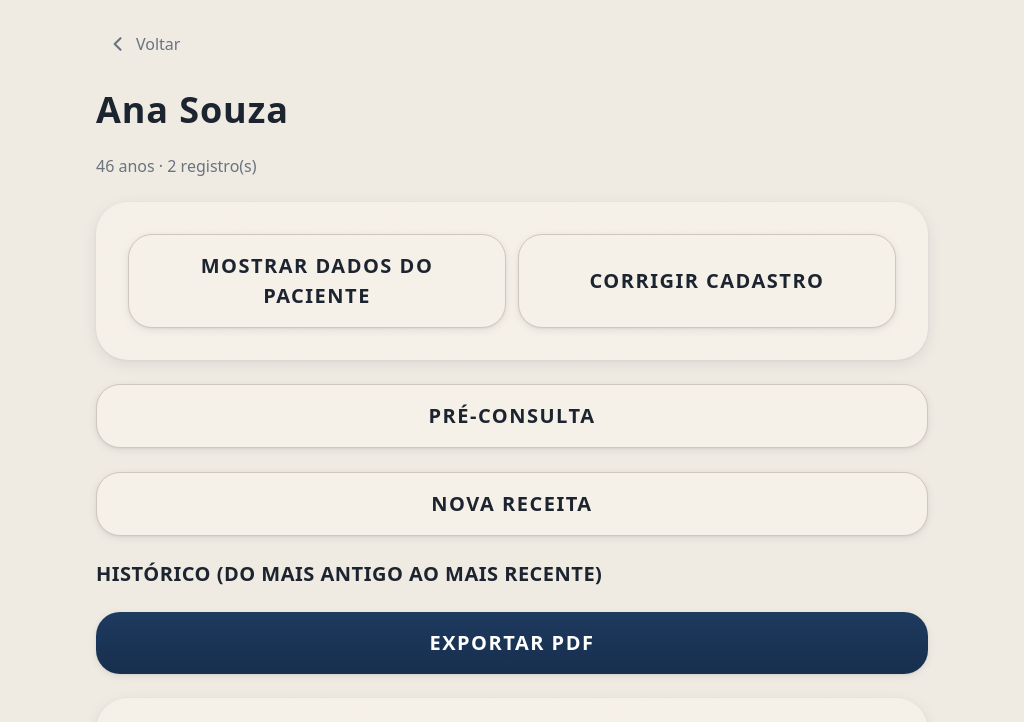
Test: prontuário cronológico do paciente › dados do paciente: mostrar/ocultar e corrigir o cadastro
Expected: the text "dipirona" is not shown
Click the button "MOSTRAR DADOS DO PACIENTE" at (317, 281), box [128, 234, 506, 328]
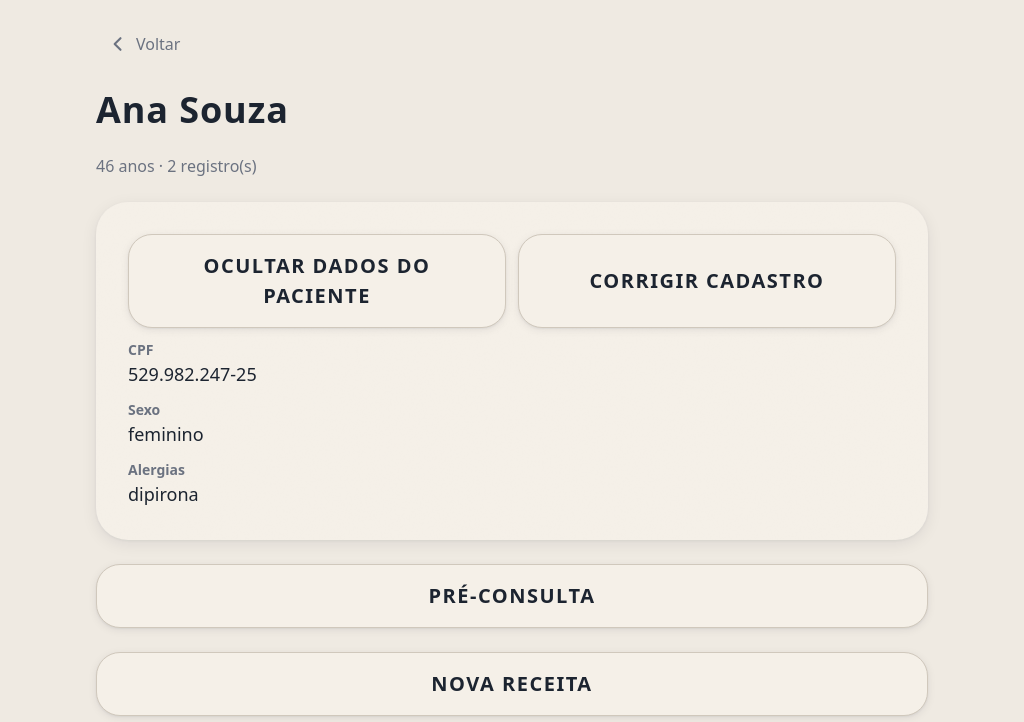
Expected: the text "dipirona" is shown, [128, 482, 199, 506]
Expected: the text "529.982.247-25" is shown, [128, 362, 257, 386]
Click the button "CORRIGIR CADASTRO" at (707, 281), box [518, 234, 896, 328]
(page scrolled)
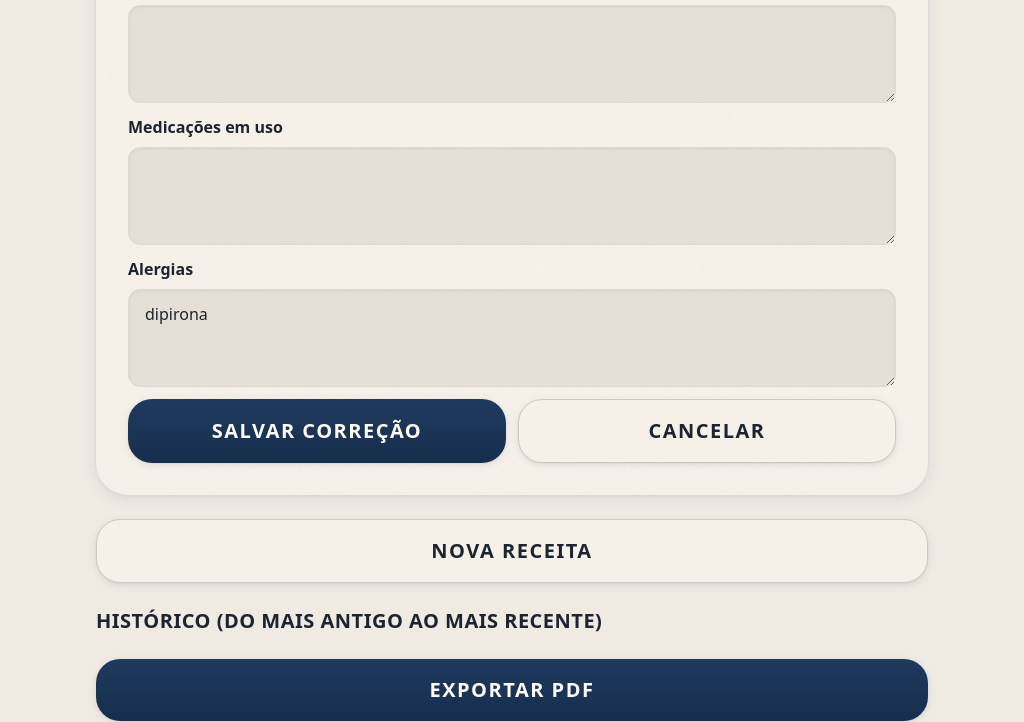
Replace the text in the text box labelled "Alergias" with "latex" at (512, 338), box [128, 289, 896, 387]
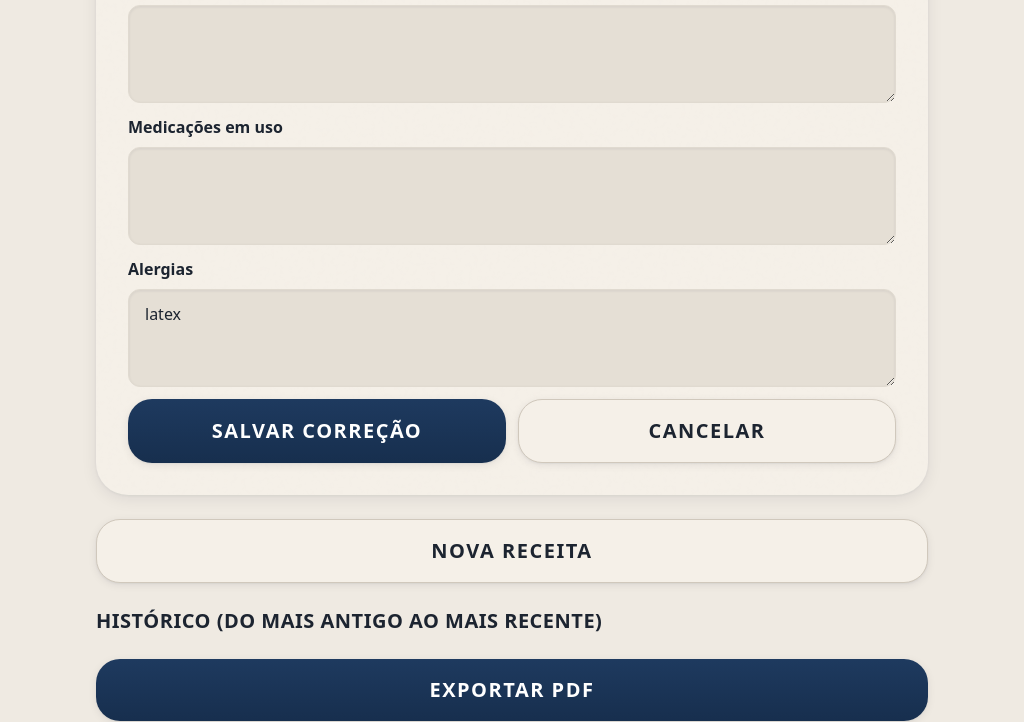
Click the button "SALVAR CORREÇÃO" at (317, 431), box [128, 399, 506, 463]
(page scrolled)
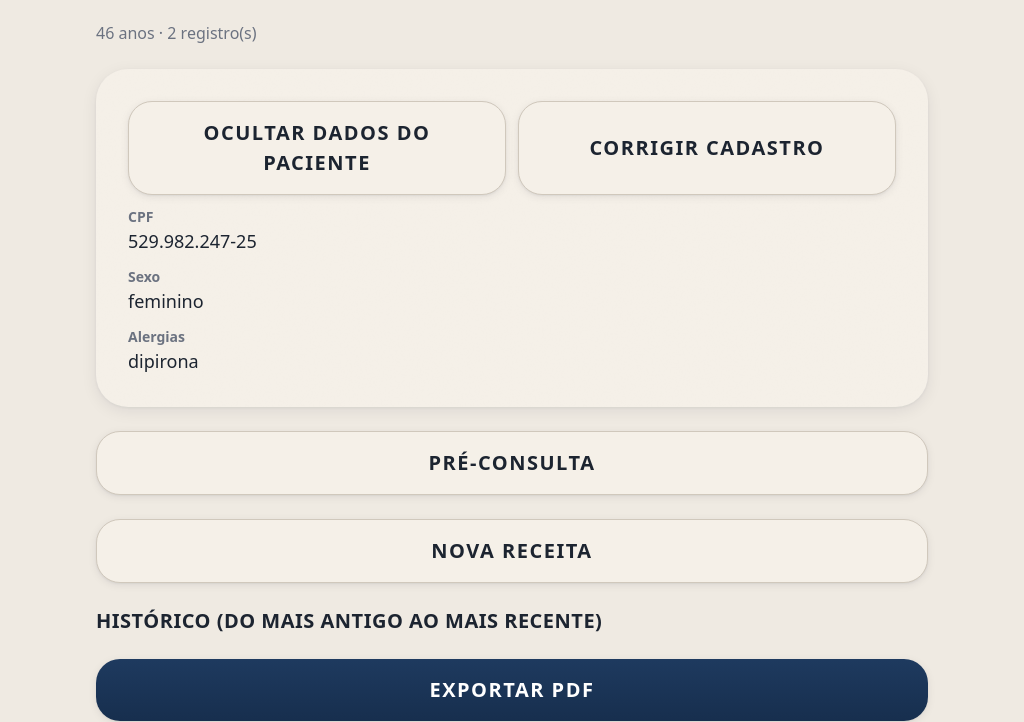
Expected: the button "SALVAR CORREÇÃO" is gone
